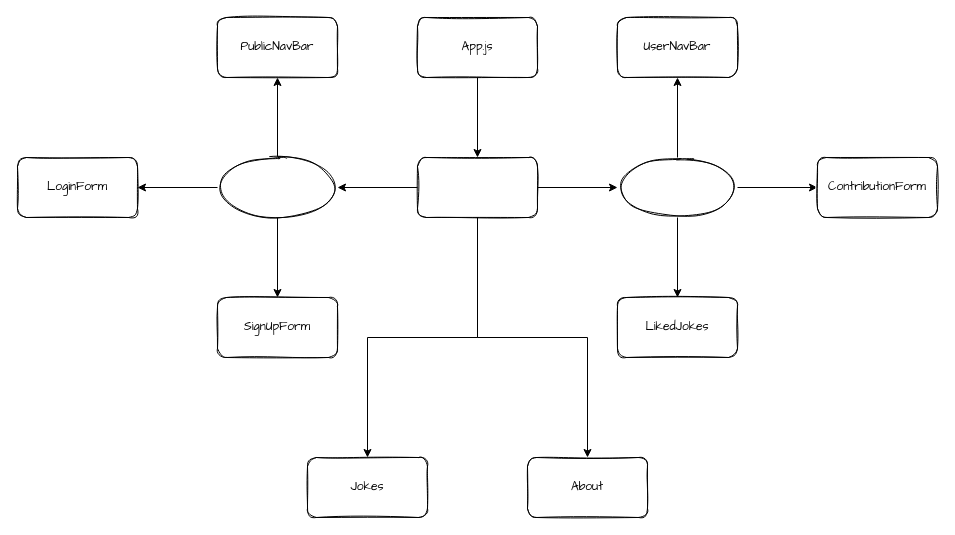
Image size: 955x535. Some labels were removed from this diagram. The centre of each missing label's shape, as x and y in pixels:
Home: (477,187)
If logged in: (677,187)
If logged out: (277,187)
